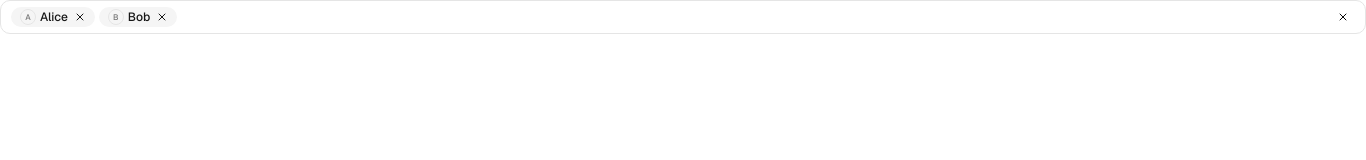
Test: user-browse › removes a user badge via its remove button
Step 1. Click the 1st button → click(80, 17), box [74, 11, 86, 23]
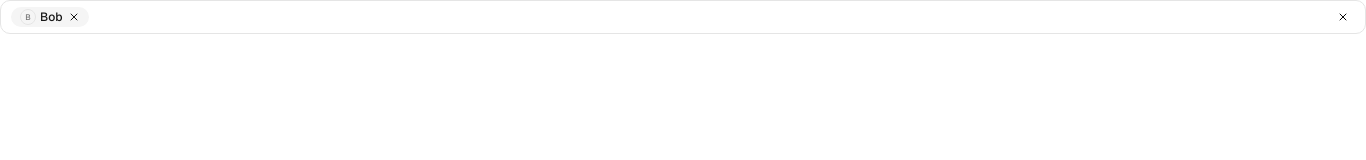
Expected: the text "Alice" is gone
